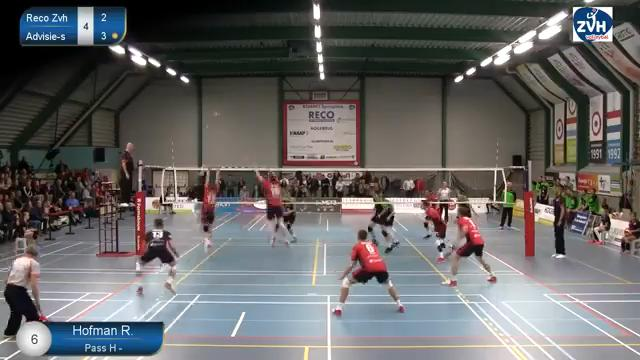muro: (251, 165, 296, 249), (195, 161, 218, 252)
